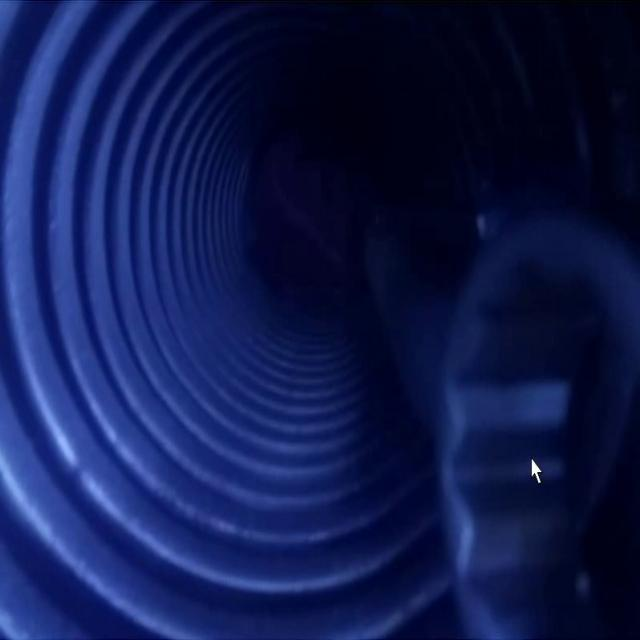metal piece: (437, 219, 639, 640)
